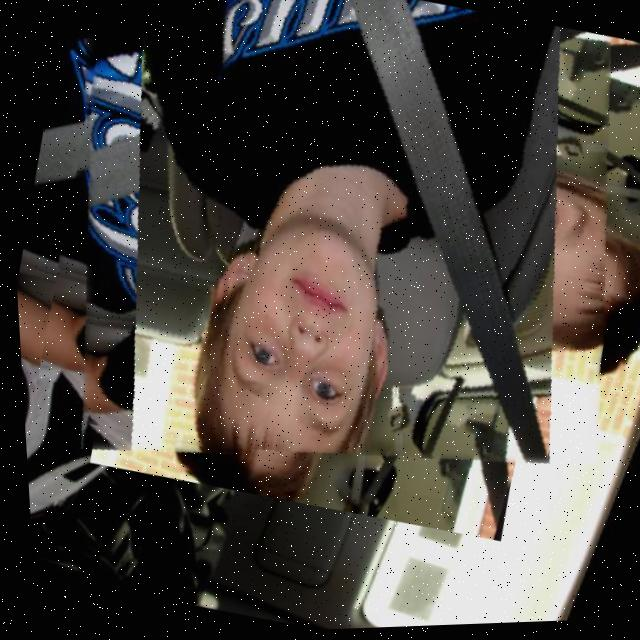seatbelt: (5, 0, 640, 542)
